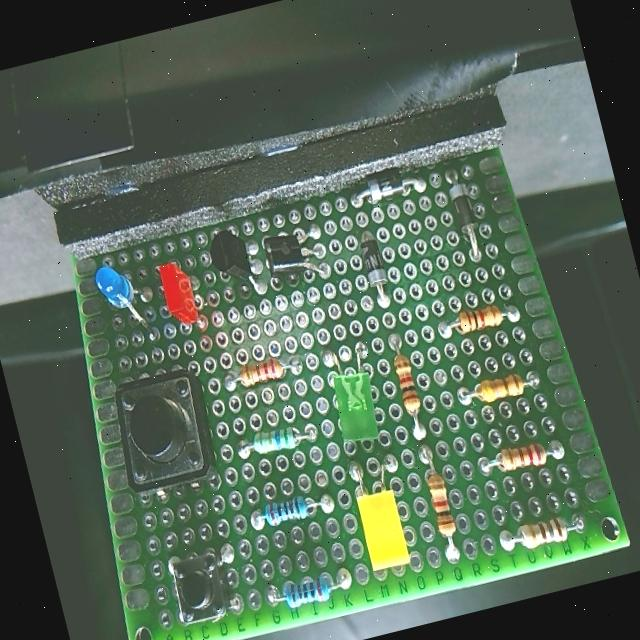diode: (434, 164, 491, 262), (336, 156, 422, 215), (348, 222, 394, 299)
led: (342, 468, 422, 582), (323, 354, 389, 454), (148, 252, 214, 342), (92, 256, 150, 328)
resistor: (414, 460, 478, 556), (502, 506, 592, 560), (375, 337, 430, 425), (487, 431, 564, 492), (264, 564, 342, 619), (460, 364, 540, 411), (250, 480, 316, 534), (243, 417, 310, 469), (440, 294, 516, 336), (225, 347, 289, 396)
switch: (105, 368, 231, 510), (150, 539, 241, 640)
transistor: (258, 220, 327, 289), (202, 220, 258, 290)
